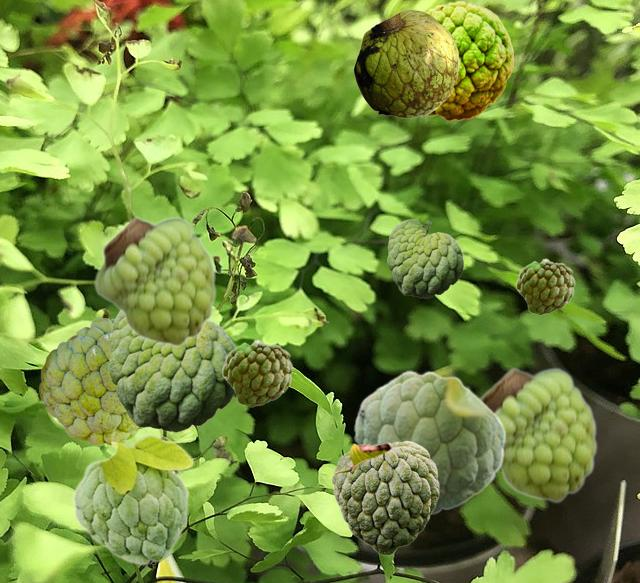atis: (353, 370, 506, 513), (71, 433, 194, 565), (94, 215, 216, 347), (480, 366, 597, 503), (108, 311, 235, 431), (39, 318, 142, 444), (331, 440, 438, 554), (353, 9, 458, 117), (423, 0, 512, 120), (387, 218, 462, 297), (221, 339, 292, 406), (515, 258, 574, 314)
